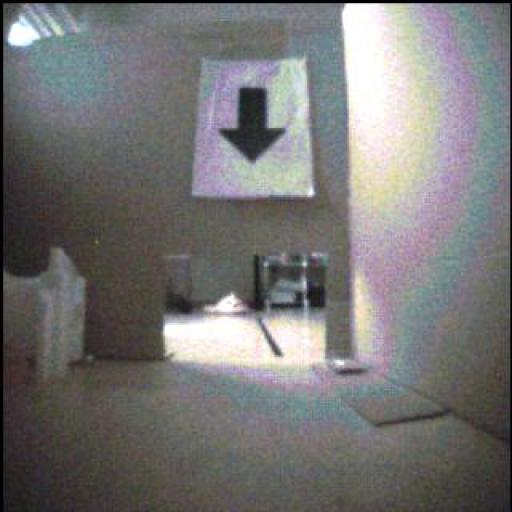arrow: (220, 89, 286, 163)
